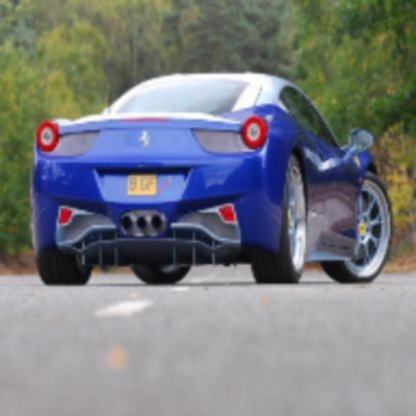Vehicle: (31, 71, 395, 290)
